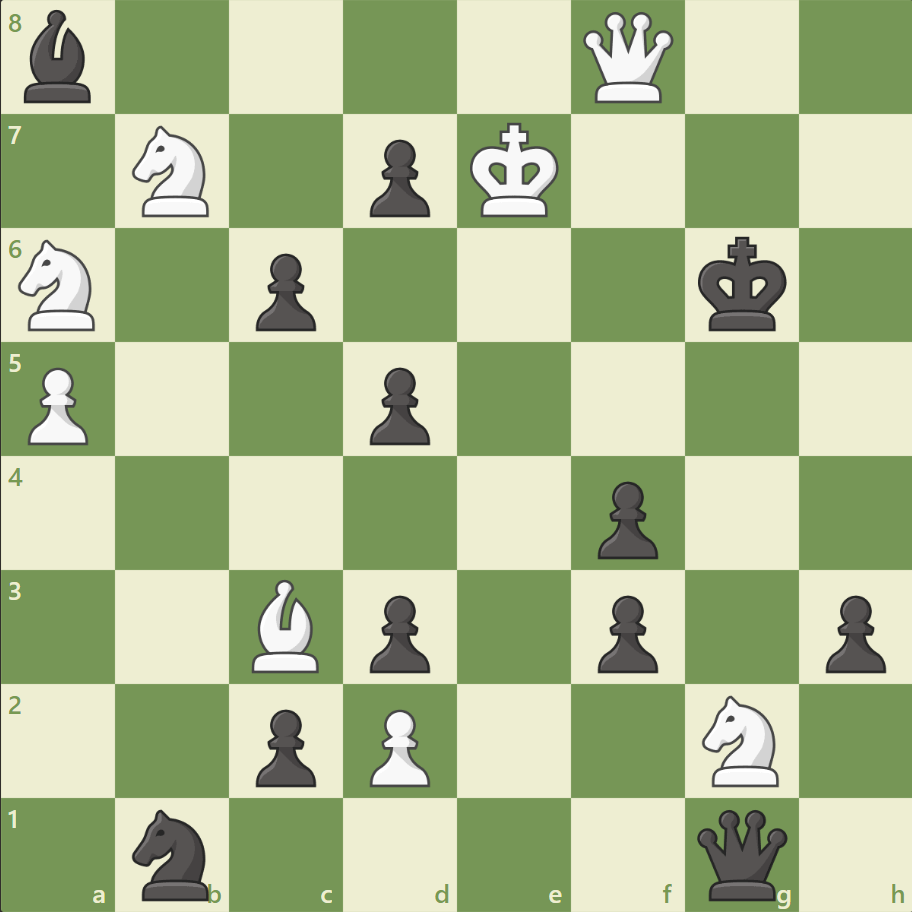B: (244, 574, 328, 676)
K: (465, 117, 565, 225)
N: (124, 121, 222, 223), (11, 234, 108, 337), (692, 688, 789, 791)
P: (20, 359, 95, 450), (361, 700, 435, 791)
Q: (578, 9, 677, 108)
b: (17, 6, 101, 109)
k: (692, 231, 792, 339)
n: (124, 802, 222, 904)
p: (247, 246, 322, 337), (247, 700, 322, 791), (361, 132, 435, 223), (361, 359, 435, 450), (588, 473, 662, 564), (361, 586, 435, 677), (588, 586, 662, 677), (815, 586, 889, 677)
q: (691, 804, 790, 903)
